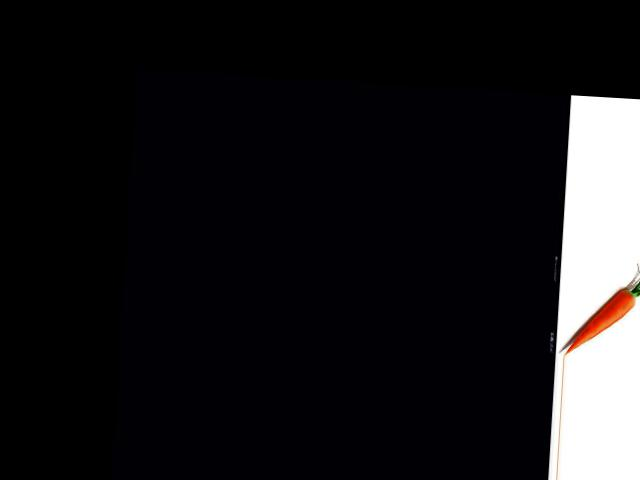carrot: (562, 276, 640, 359)
